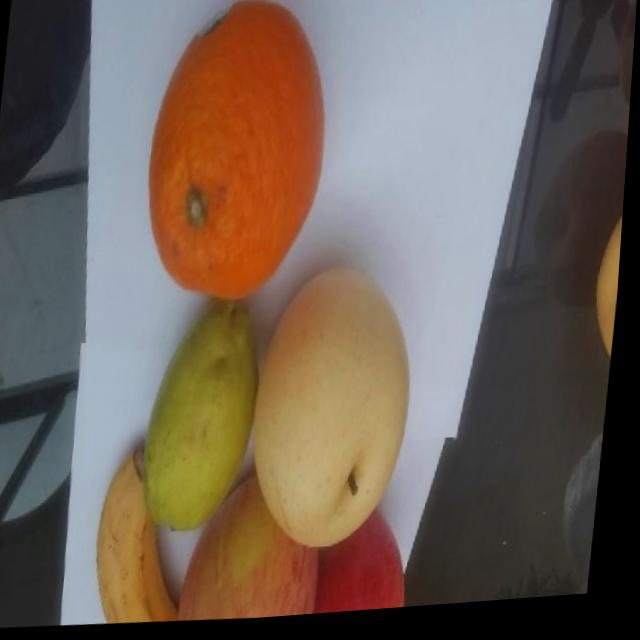Apple: (184, 469, 337, 627), (321, 511, 422, 619)
Banana: (98, 443, 202, 629)
Orange: (139, 0, 340, 313)
